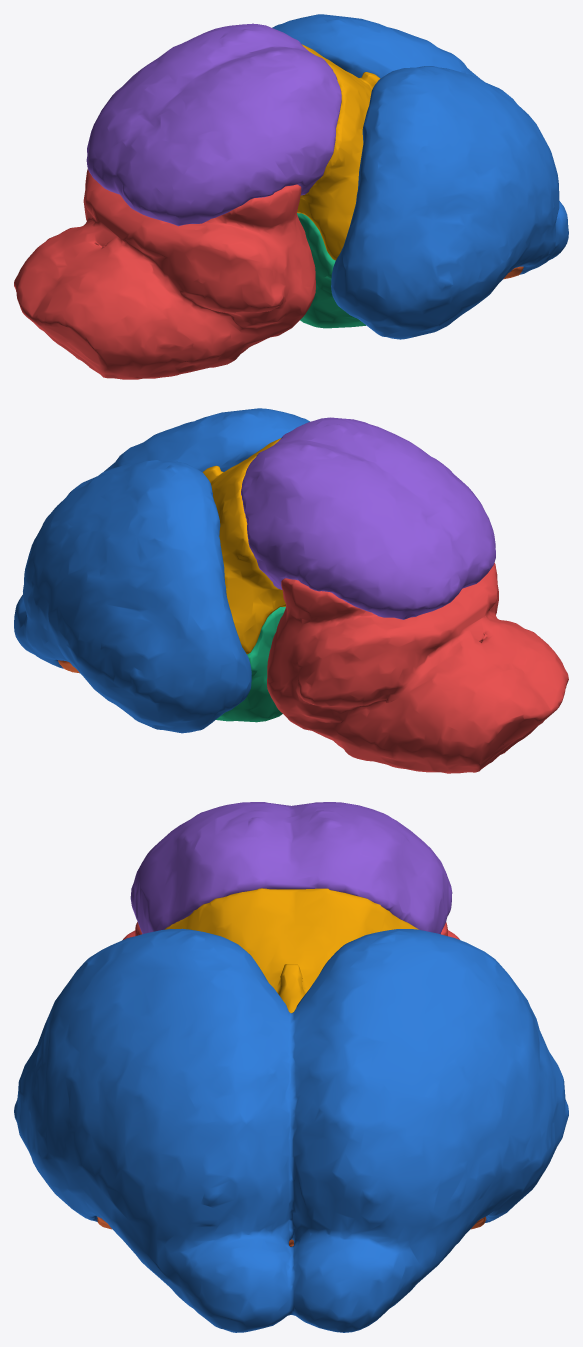
3 renders of one model, top to bottom at view 1: azimuth 30°, elevation 25°; view 2: azimuth 150°, elevation 25°; view 3: azimuth 270°, elevation 25°, orthographic. The views are drawn at different scales.
Visible parts, largest first — view 1: pallium, hindbrain, midbrain, diencephalon, hypothalamus; view 2: pallium, hindbrain, midbrain, diencephalon, hypothalamus; view 3: pallium, midbrain, diencephalon.
Boxes of the visible parts, <box> form: pallium: <box>272,14,568,339</box>; hindbrain: <box>14,169,315,379</box>; midbrain: <box>86,23,341,226</box>; diencephalon: <box>297,44,380,260</box>; hypothalamus: <box>297,213,365,328</box>; pallium: <box>14,408,309,733</box>; hindbrain: <box>267,563,568,773</box>; midbrain: <box>241,417,495,619</box>; diencephalon: <box>202,438,285,654</box>; hypothalamus: <box>216,606,285,722</box>; pallium: <box>14,928,568,1332</box>; midbrain: <box>130,802,452,934</box>; diencephalon: <box>165,888,418,1013</box>.
Bounding box in the file's own units: 6722 × 3650 × 4814.
